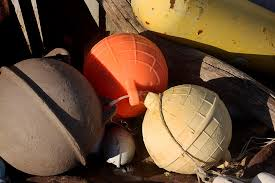buoy: (83, 33, 168, 122)
